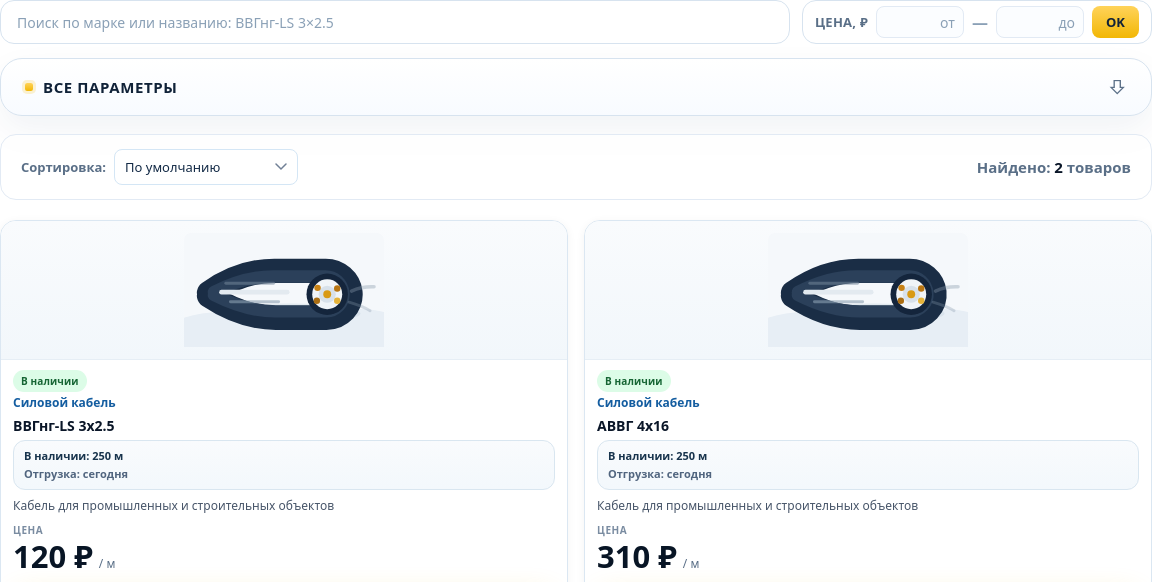
it: ProductListingView render flow › связывает кнопку фильтров с раскрываемой панелью
The width and height of the screenshot is (1152, 582).
Click the button "Все параметры ⇧".
click(110, 87)  # box 1,59 -> 1151,115
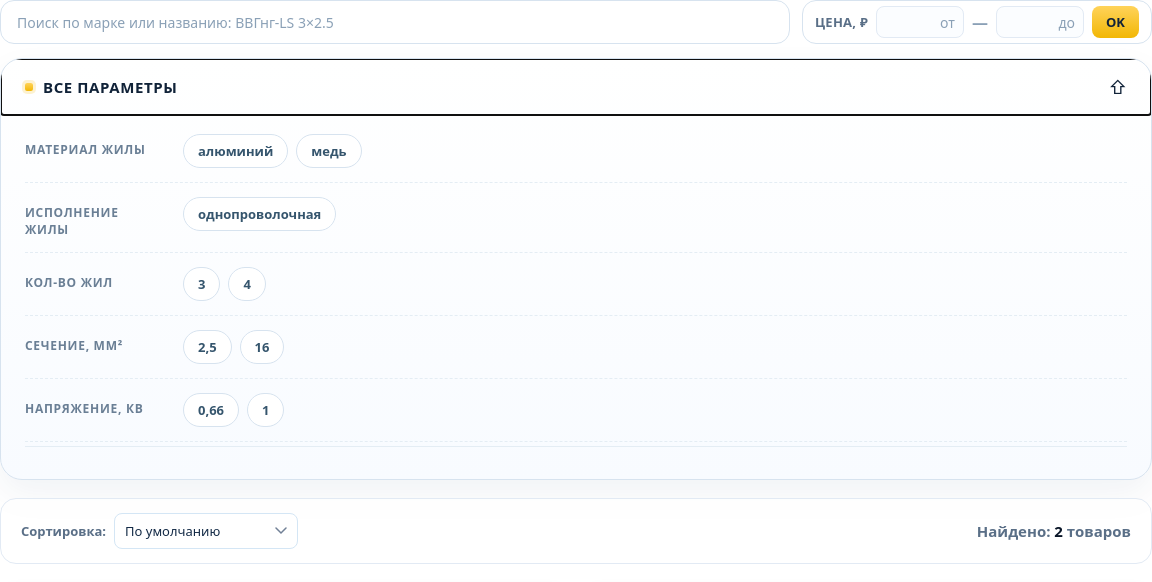
Expected: the button "Все параметры ⇧" is expanded, 1,59 -> 1151,115
